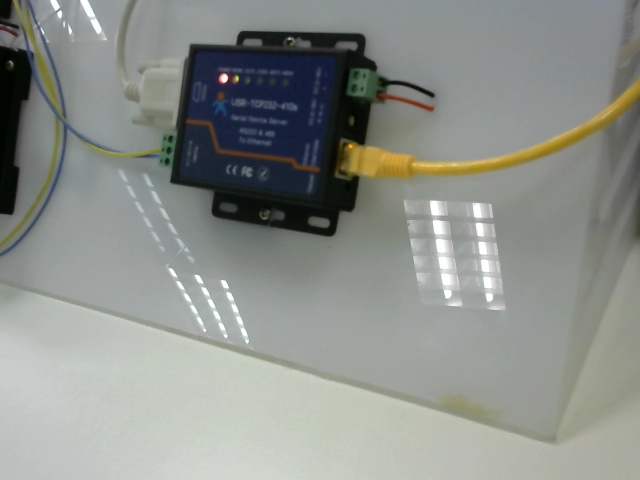modbus bridge: (174, 22, 380, 246)
